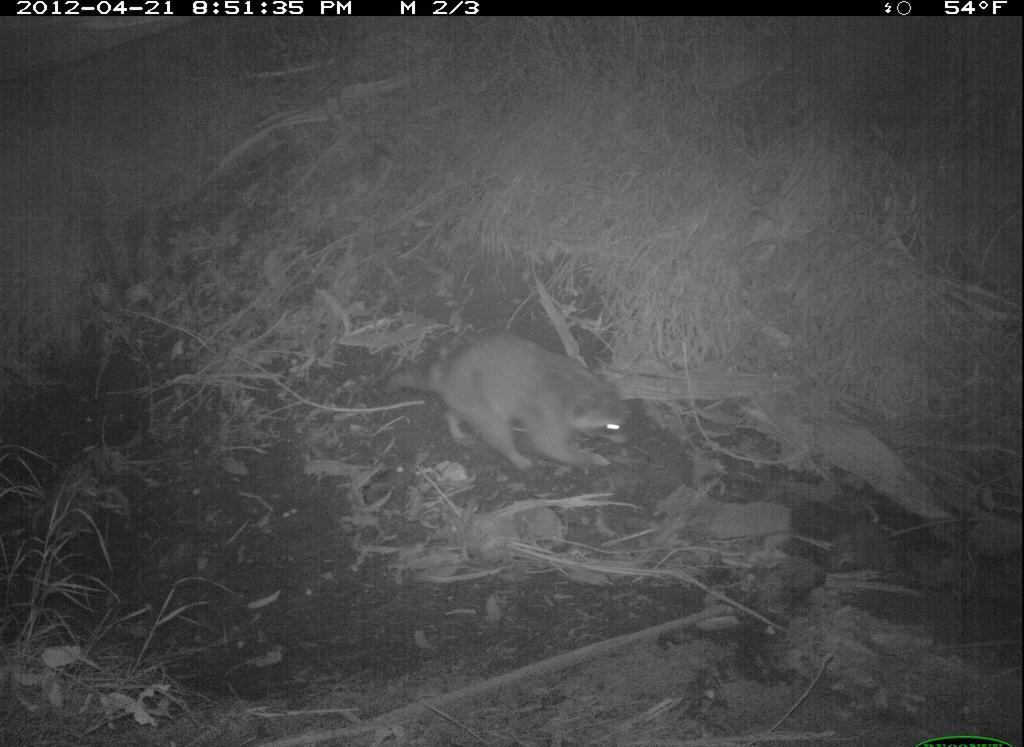raccoon: (396, 313, 689, 498)
